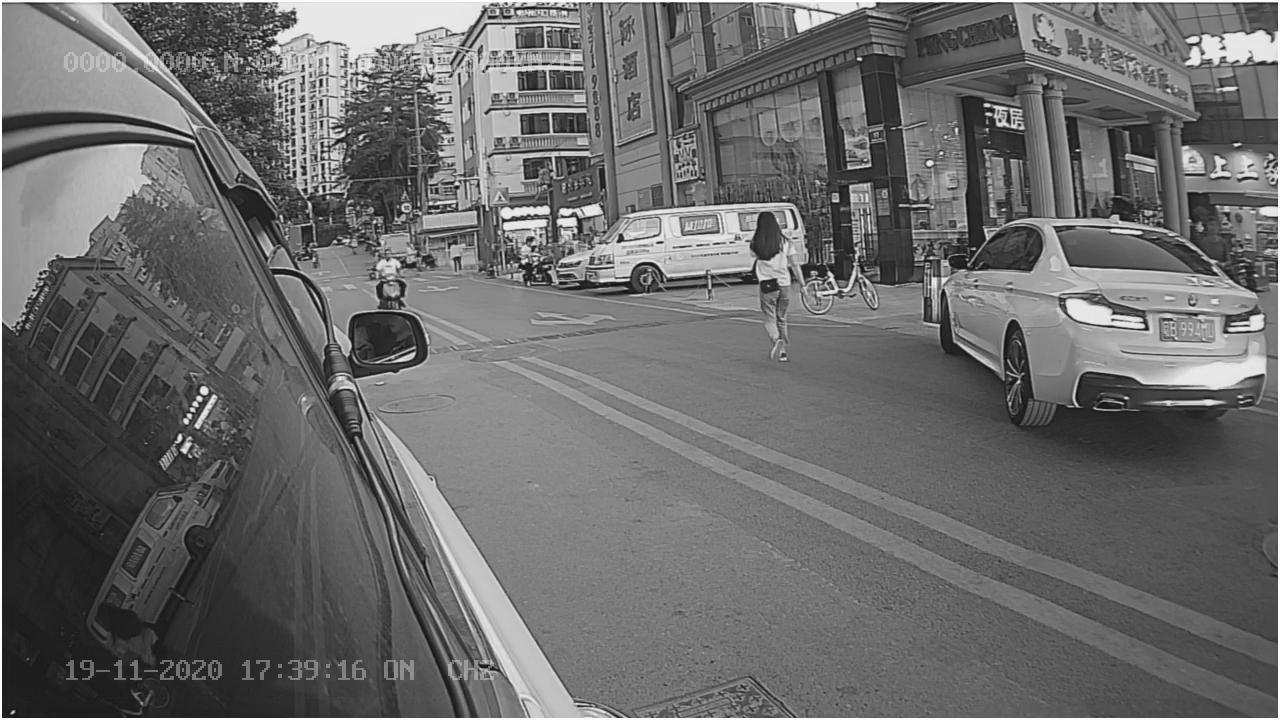person: (742, 210, 805, 367)
